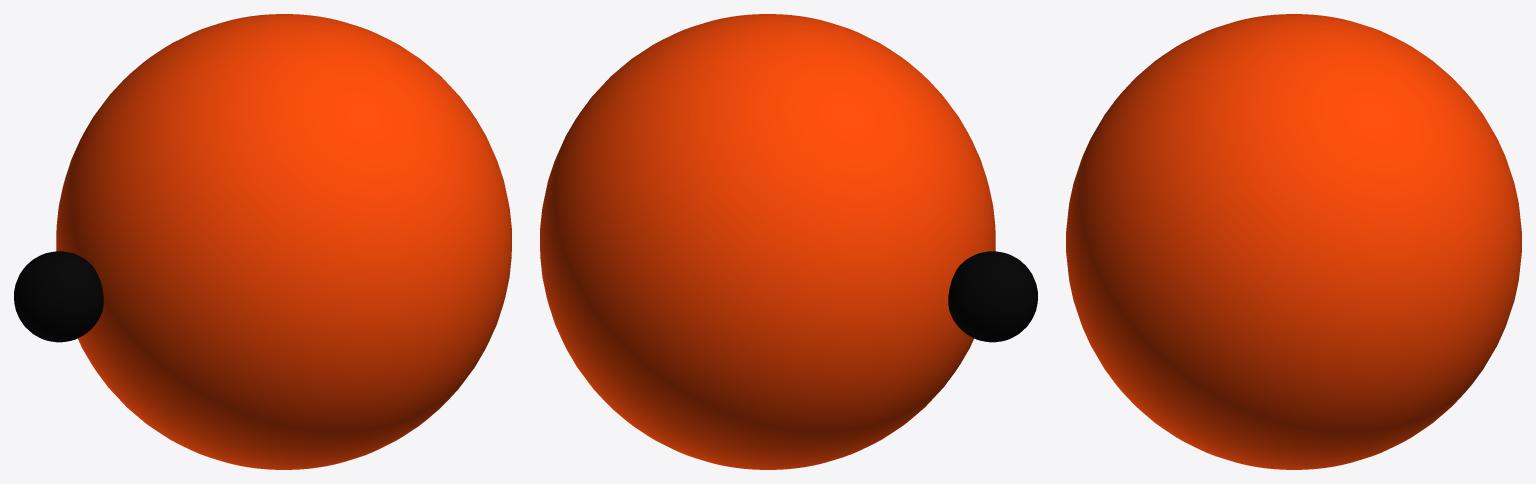
Rendered from physics_sphere.glb.
The picture shows the model from 3 angles, left to right: view 1: azimuth 30°, elevation 25°; view 2: azimuth 150°, elevation 25°; view 3: azimuth 270°, elevation 25°; orthographic projection.
Visible parts, largest first — view 1: sphere; view 2: sphere; view 3: sphere.
Part boxes in pixels (box(x1,y1,x2,y2)): sphere: box(14, 14, 511, 469); sphere: box(540, 14, 1037, 469); sphere: box(1066, 14, 1521, 469).
Bounding box in the file's own units: 37.36 × 32 × 31.96.
